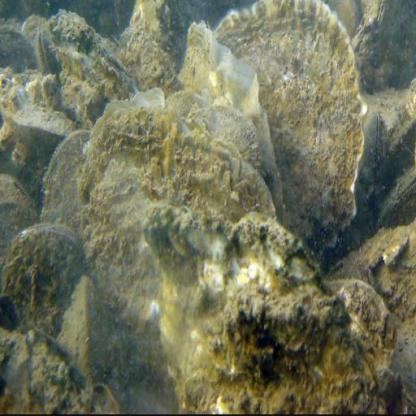Oyster- Indeterminate: (81, 88, 282, 416), (178, 27, 282, 222), (0, 223, 84, 334), (0, 174, 37, 276)
Oyster-Closed: (151, 210, 379, 416), (213, 5, 367, 256), (52, 13, 141, 126), (328, 281, 396, 375), (40, 131, 93, 229)
